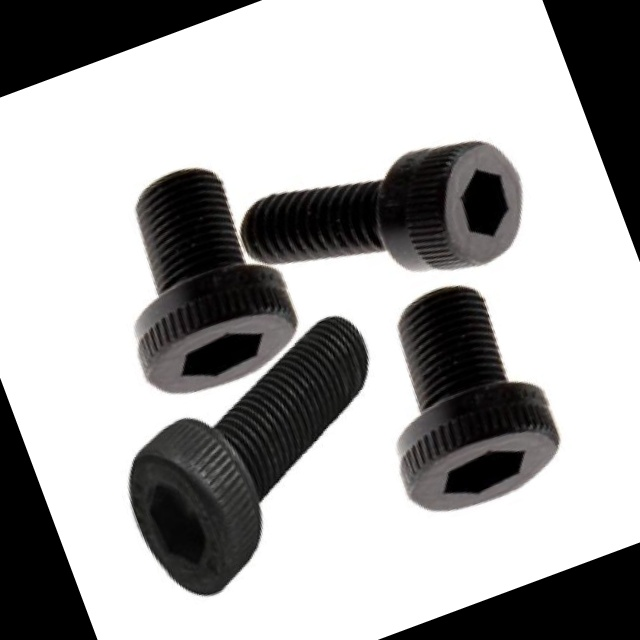allen: (111, 415, 279, 608), (401, 126, 543, 278), (132, 285, 306, 408), (397, 400, 568, 525)
